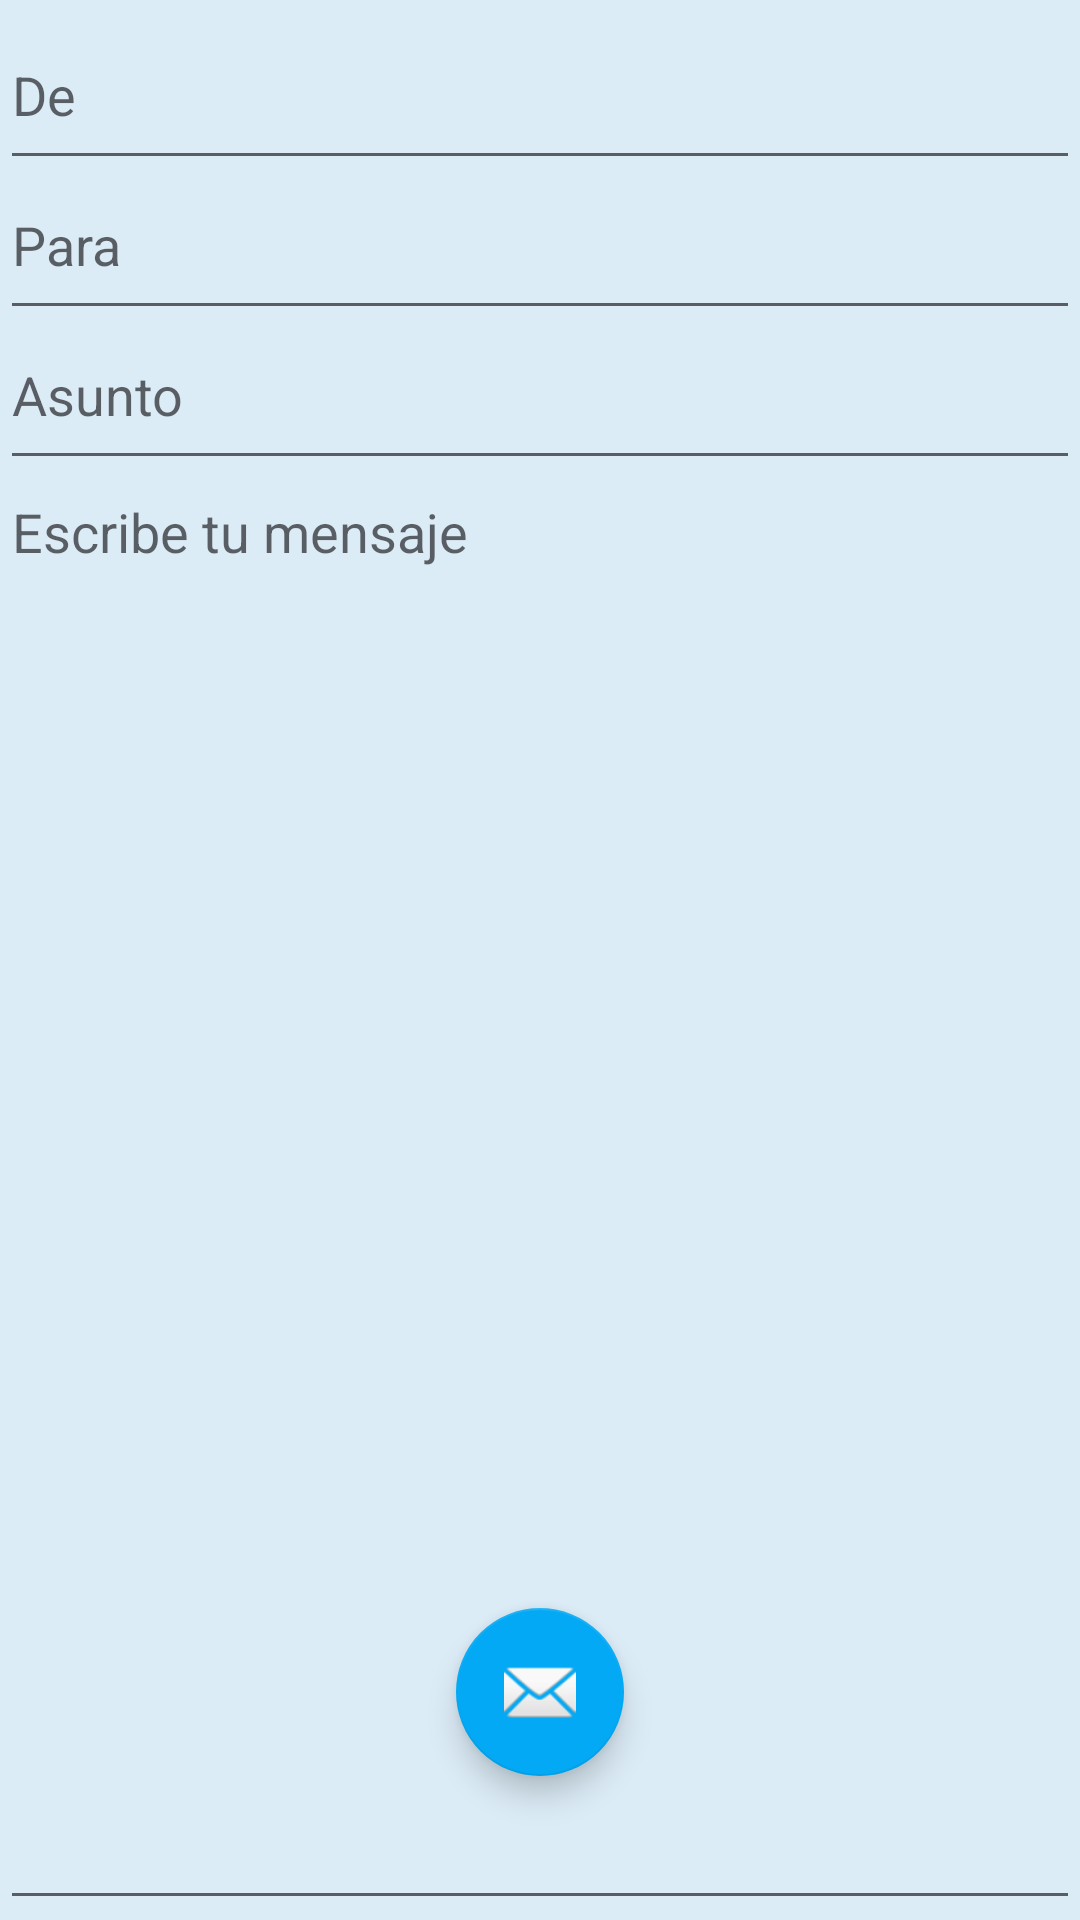

Point at icon controls on the screen. Image size 1080px x 1920px, points as point (x, y).
email: point (540, 1692)
